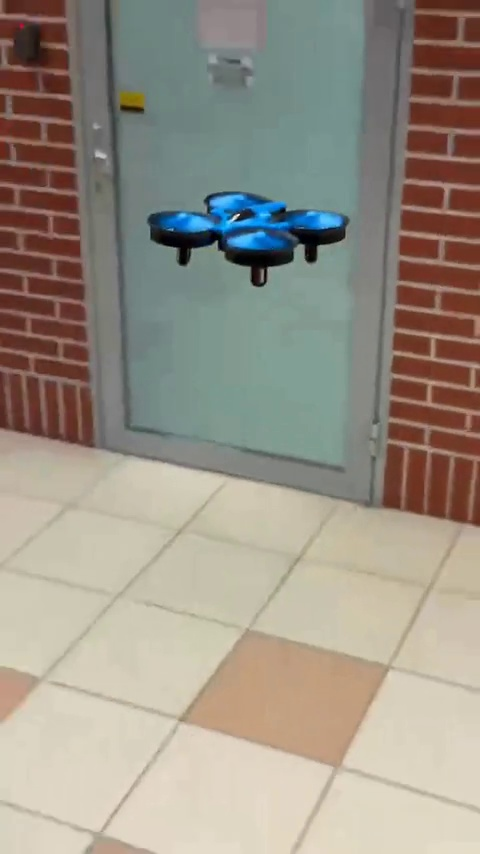drone: (138, 193, 358, 286)
